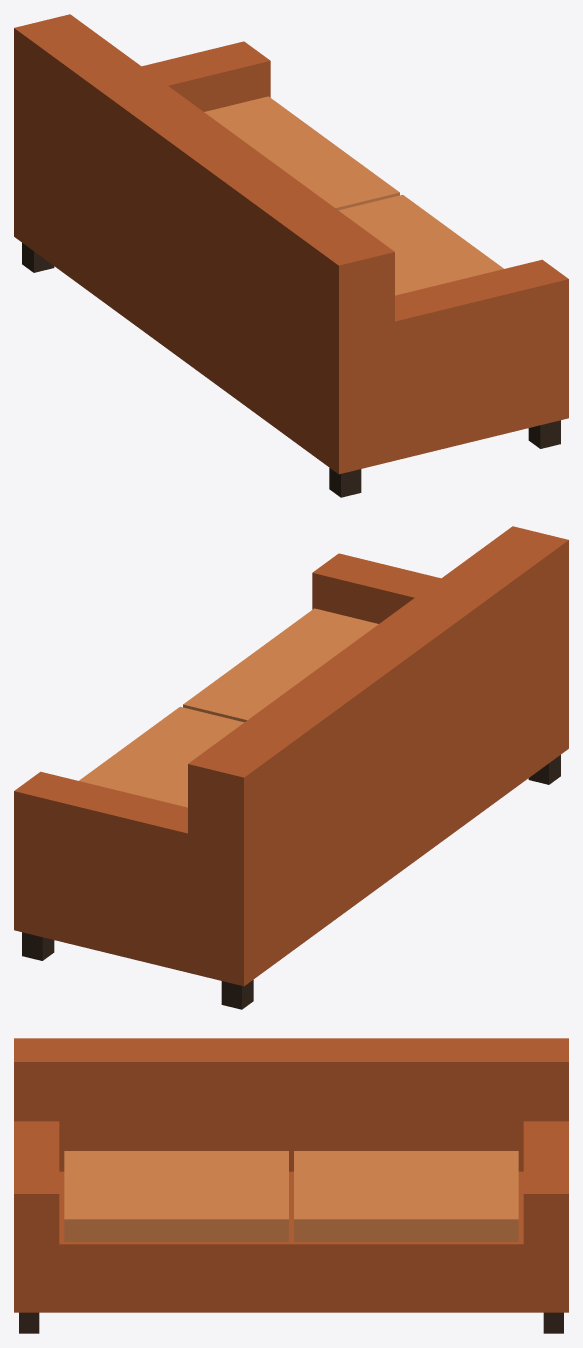
File: shop-sofa.glb
3 renders of one model, top to bottom at view 1: azimuth 30°, elevation 25°; view 2: azimuth 150°, elevation 25°; view 3: azimuth 270°, elevation 25°, orthographic. The views are drawn at different scales.
Parts seen in each view (by area): view 1: SofaBack, SofaBase, SofaArm, SofaCushion.001, SofaCushion, SofaArm.001, SofaLeg, SofaLeg.002; view 2: SofaBack, SofaBase, SofaArm.001, SofaCushion, SofaCushion.001, SofaArm, SofaLeg.001, SofaLeg.003; view 3: SofaBack, SofaBase, SofaCushion, SofaCushion.001, SofaArm, SofaArm.001, SofaLeg.002, SofaLeg.003.
Boxes of the visible parts, box(x1,y1,x2,y2) form: SofaBack: box(14, 14, 394, 393); SofaBase: box(14, 156, 568, 474); SofaArm: box(312, 259, 568, 393); SofaCushion.001: box(204, 96, 399, 210); SofaCushion: box(338, 194, 503, 295); SofaArm.001: box(14, 41, 270, 175); SofaLeg: box(329, 468, 361, 497); SofaLeg.002: box(528, 420, 560, 448); SofaBack: box(188, 526, 568, 905); SofaBase: box(14, 668, 568, 986); SofaArm.001: box(14, 771, 270, 905); SofaCushion: box(183, 608, 378, 722); SofaCushion.001: box(79, 706, 244, 807); SofaArm: box(312, 553, 568, 677); SofaLeg.001: box(221, 980, 253, 1009); SofaLeg.003: box(22, 932, 54, 960); SofaBack: box(14, 1038, 568, 1171); SofaBase: box(14, 1171, 568, 1312); SofaCushion: box(64, 1151, 288, 1241); SofaCushion.001: box(294, 1151, 518, 1241); SofaArm: box(14, 1121, 59, 1244); SofaArm.001: box(523, 1121, 568, 1244); SofaLeg.002: box(19, 1312, 39, 1333); SofaLeg.003: box(543, 1312, 563, 1333).
Size of the model in its own units: 0.9 by 0.88 by 2.2.
